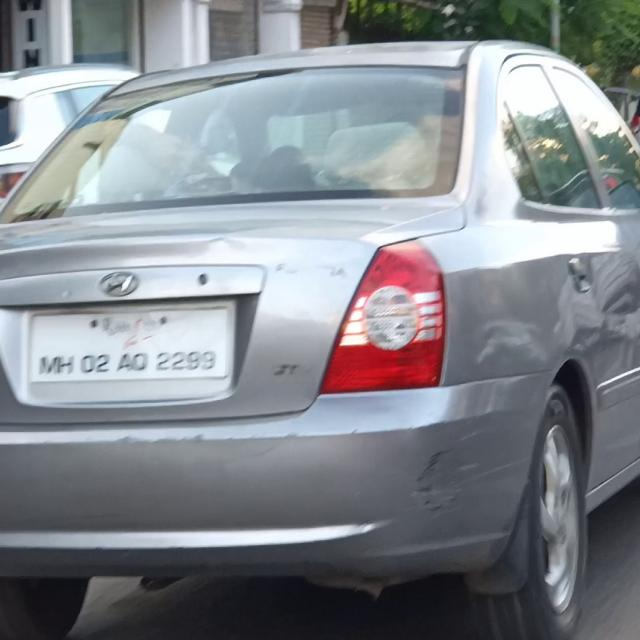license-plate: (28, 306, 228, 380)
